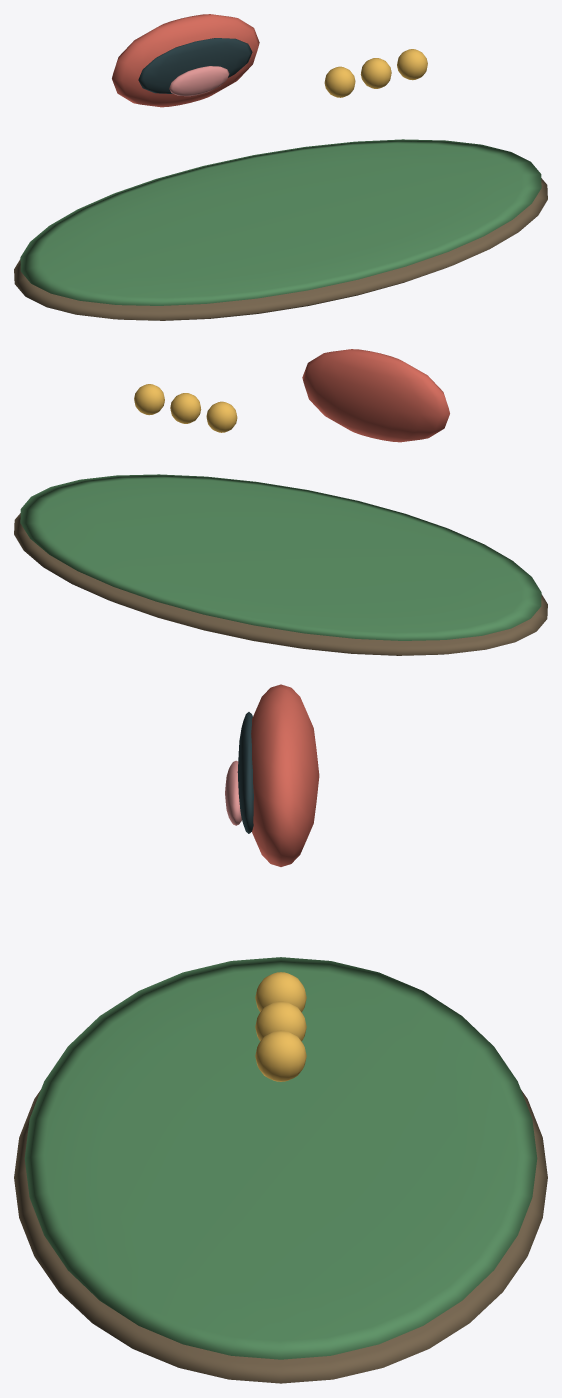
The model's file is noisy-mouth.glb.
3 views of the same model, one above another, from view 1: azimuth 30°, elevation 25°; view 2: azimuth 150°, elevation 25°; view 3: azimuth 270°, elevation 25° (orthographic). The views are drawn at different scales.
Visible parts, largest first — view 1: noisy-mouth_surface_01, noisy-mouth_surface_00, noisy-mouth_surface_02, noisy-mouth_surface_03, noisy-mouth_surface_05, noisy-mouth_surface_04; view 2: noisy-mouth_surface_01, noisy-mouth_surface_02, noisy-mouth_surface_00, noisy-mouth_surface_05; view 3: noisy-mouth_surface_01, noisy-mouth_surface_00, noisy-mouth_surface_02, noisy-mouth_surface_05, noisy-mouth_surface_03.
Boxes of the visible parts, left/top/right/bottom form: noisy-mouth_surface_01: left=20, top=139, right=541, bottom=305; noisy-mouth_surface_00: left=14, top=178, right=547, bottom=320; noisy-mouth_surface_02: left=112, top=14, right=259, bottom=107; noisy-mouth_surface_03: left=138, top=38, right=252, bottom=93; noisy-mouth_surface_05: left=324, top=49, right=427, bottom=97; noisy-mouth_surface_04: left=169, top=66, right=229, bottom=96; noisy-mouth_surface_01: left=20, top=474, right=541, bottom=640; noisy-mouth_surface_02: left=302, top=349, right=449, bottom=442; noisy-mouth_surface_00: left=14, top=513, right=547, bottom=655; noisy-mouth_surface_05: left=134, top=384, right=237, bottom=432; noisy-mouth_surface_01: left=24, top=957, right=537, bottom=1359; noisy-mouth_surface_00: left=14, top=1090, right=547, bottom=1383; noisy-mouth_surface_02: left=251, top=684, right=319, bottom=866; noisy-mouth_surface_05: left=255, top=972, right=306, bottom=1081; noisy-mouth_surface_03: left=237, top=712, right=253, bottom=833.
Bounding box in the file's own units: 4.56 × 2.17 × 2.5.
